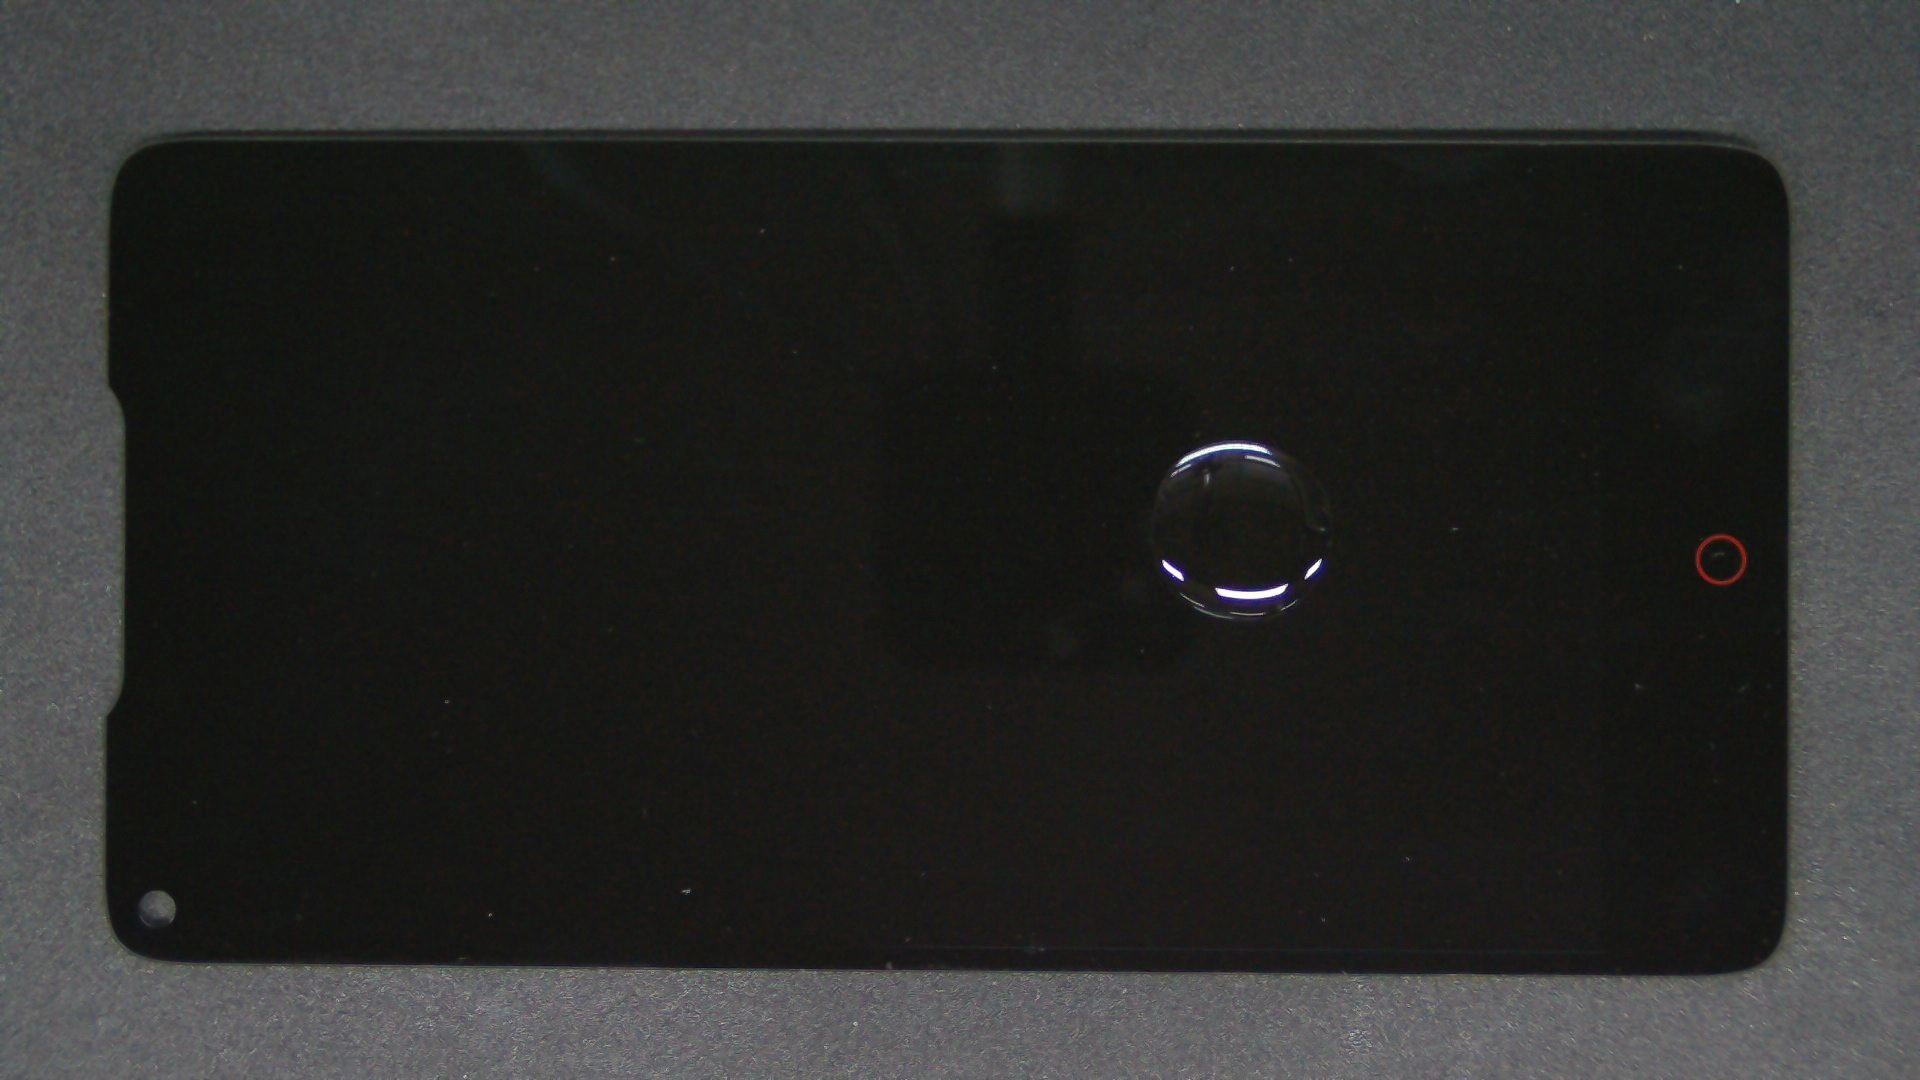oil: (617, 219, 1849, 661)
